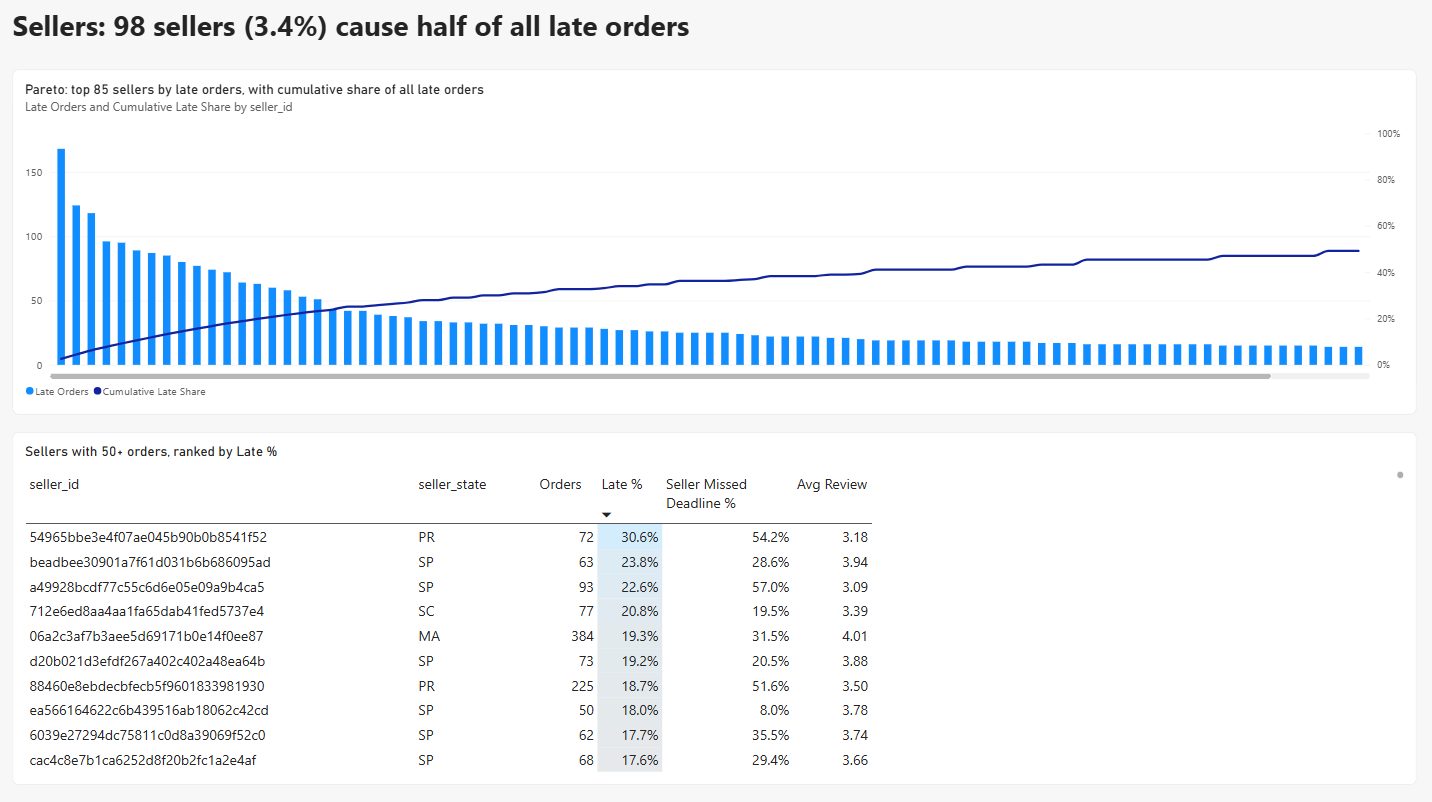

Layout of this report page (visuals, bound fields, positions):
{"tool":"powerbi","page":{"name":"Sellers","canvas":[1920,1080],"ordinal":2},"visuals":[{"type":"textbox","box":[10,0,280,280],"z":0},{"type":"textbox","box":[24,12,1872,72],"z":1000},{"type":"lineClusteredColumnComboChart","title":"Pareto: top 85 sellers by late orders, with cumulative share of all late orders","fields":{"Category":["vw_delivered_orders.seller_id"],"Y":["_Measures.Late Orders"],"Y2":["_Measures.Cumulative Late Share"]},"box":[24,96,1872,460],"z":2000},{"type":"tableEx","title":"Sellers with 50+ orders, ranked by Late %","fields":{"Values":["vw_delivered_orders.seller_id","vw_delivered_orders.seller_state","_Measures.Orders","_Measures.Late %","_Measures.Seller Missed Deadline %","_Measures.Avg Review"]},"box":[24,580,1872,470],"z":3000}]}

Visuals, with their boxes in screenshot pixels (x1, y1, x2, y2), scaled from the page's 1920x1080 canvas onto the 1432x802 screenshot:
textbox: left=7, top=0, right=216, bottom=208
textbox: left=18, top=9, right=1414, bottom=62
"Pareto: top 85 sellers by late orders, with cumulative share of all late orders" lineClusteredColumnComboChart: left=18, top=71, right=1414, bottom=413
"Sellers with 50+ orders, ranked by Late %" tableEx: left=18, top=431, right=1414, bottom=780
